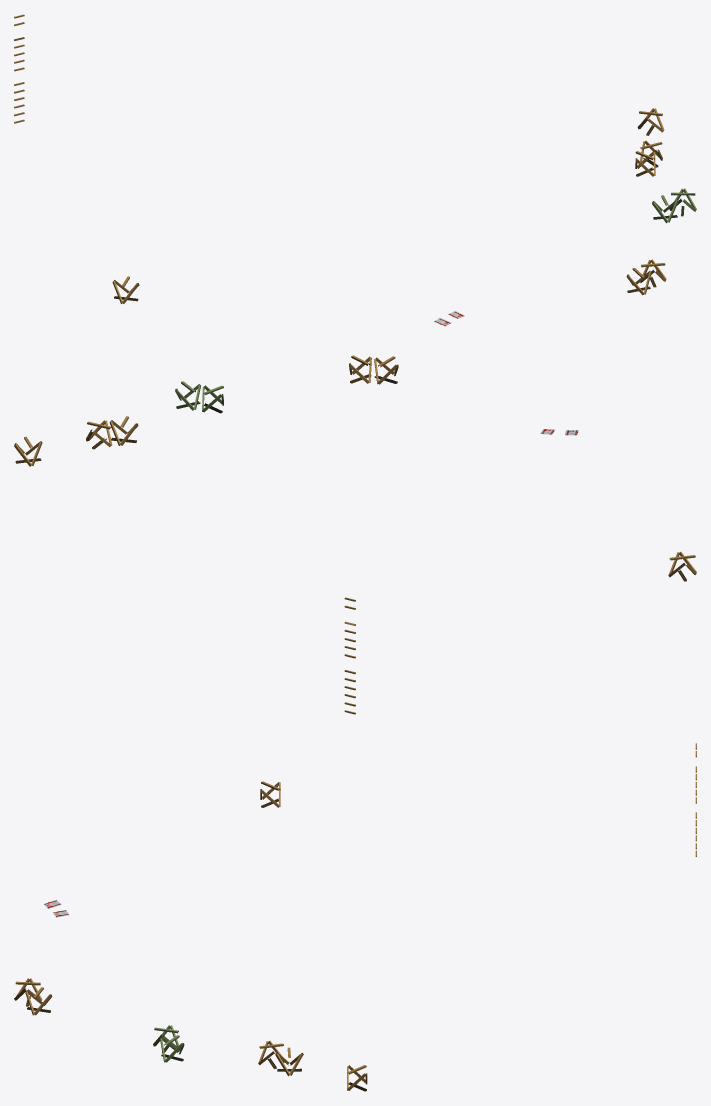
The model's file is apoc_object_2.glb.
The picture shows the model from 3 angles, top to bottom: view 1: azimuth 30°, elevation 25°; view 2: azimuth 150°, elevation 25°; view 3: azimuth 270°, elevation 25°; orthographic projection. The views are drawn at different scales.
Parts seen in each view (by area): view 1: Object_3; view 2: Object_3; view 3: Object_3.
Boxes of the visible parts, x1=… form: Object_3: x1=14, y1=14, x2=696, y2=326; Object_3: x1=14, y1=355, x2=696, y2=714; Object_3: x1=14, y1=743, x2=696, y2=1091.
Size of the model in its own units: 5.94 by 1.04 by 5.88.
1 material, 1 textured.
